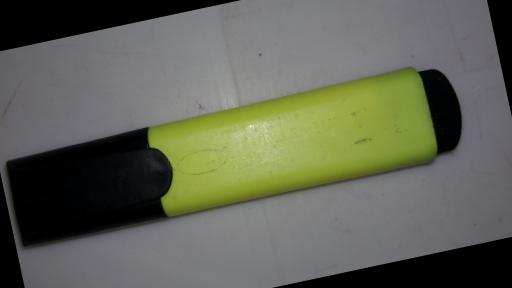Highlighter: (0, 56, 472, 250)
